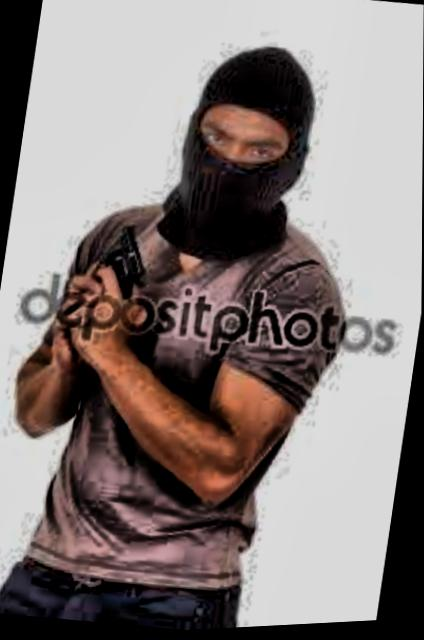pistol: (97, 222, 151, 287)
